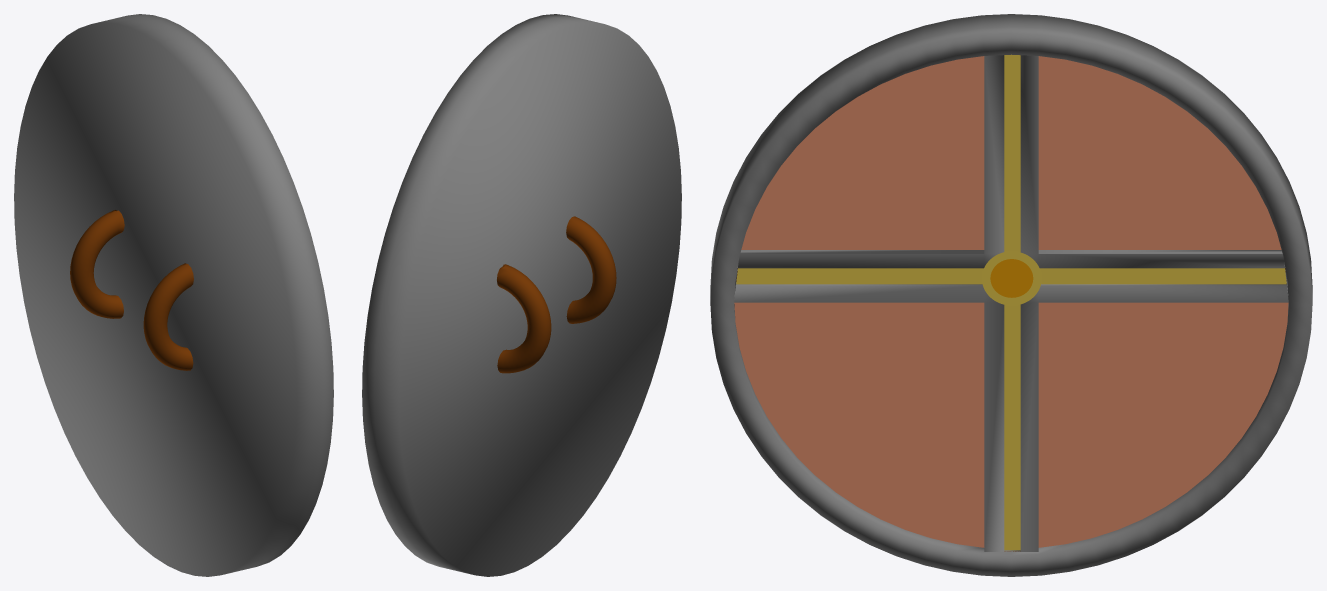
File: shield.fbx
The picture shows the model from 3 angles, left to right: view 1: azimuth 30°, elevation 25°; view 2: azimuth 150°, elevation 25°; view 3: azimuth 270°, elevation 25°; orthographic projection. The views are drawn at different scales.
Parts seen in each view (by area): view 1: Circle.002; view 2: Circle.002; view 3: Circle.002.
Part boxes in pixels (x1,y1,x2,y2): Circle.002: (14, 14, 333, 576); Circle.002: (362, 14, 681, 576); Circle.002: (710, 14, 1312, 576).
Bounding box in the file's own units: 37.26 × 214 × 214.
